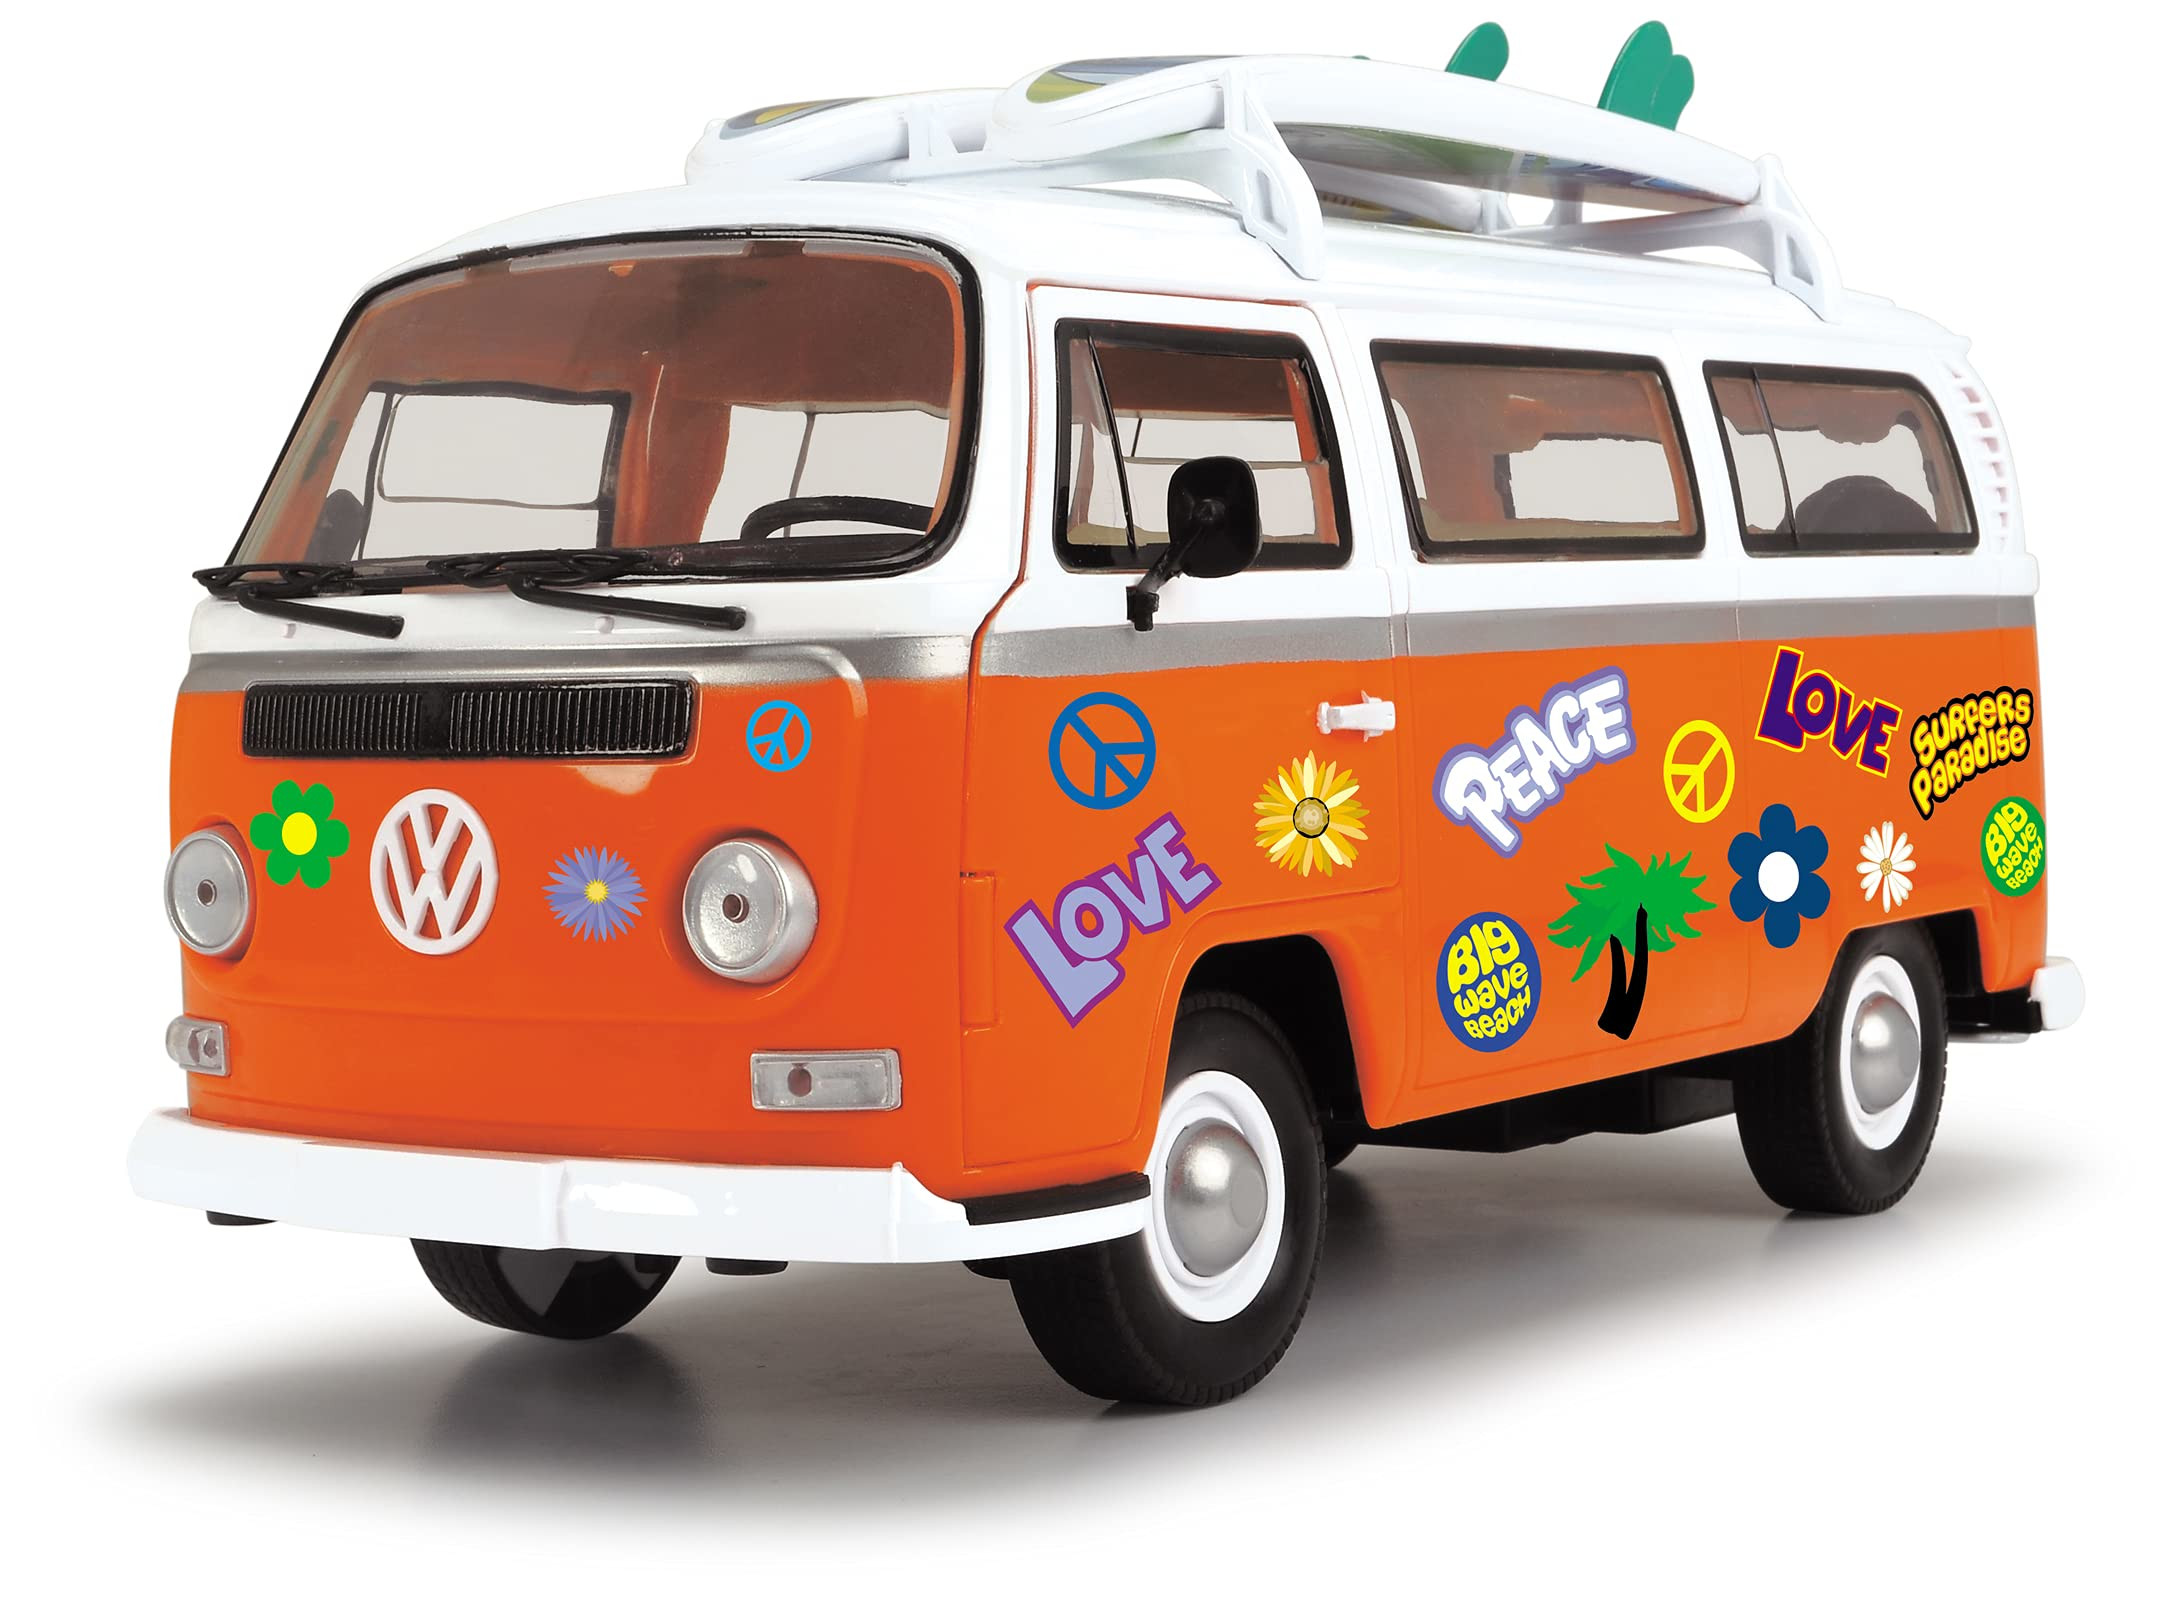van: (124, 200, 2089, 1413)
